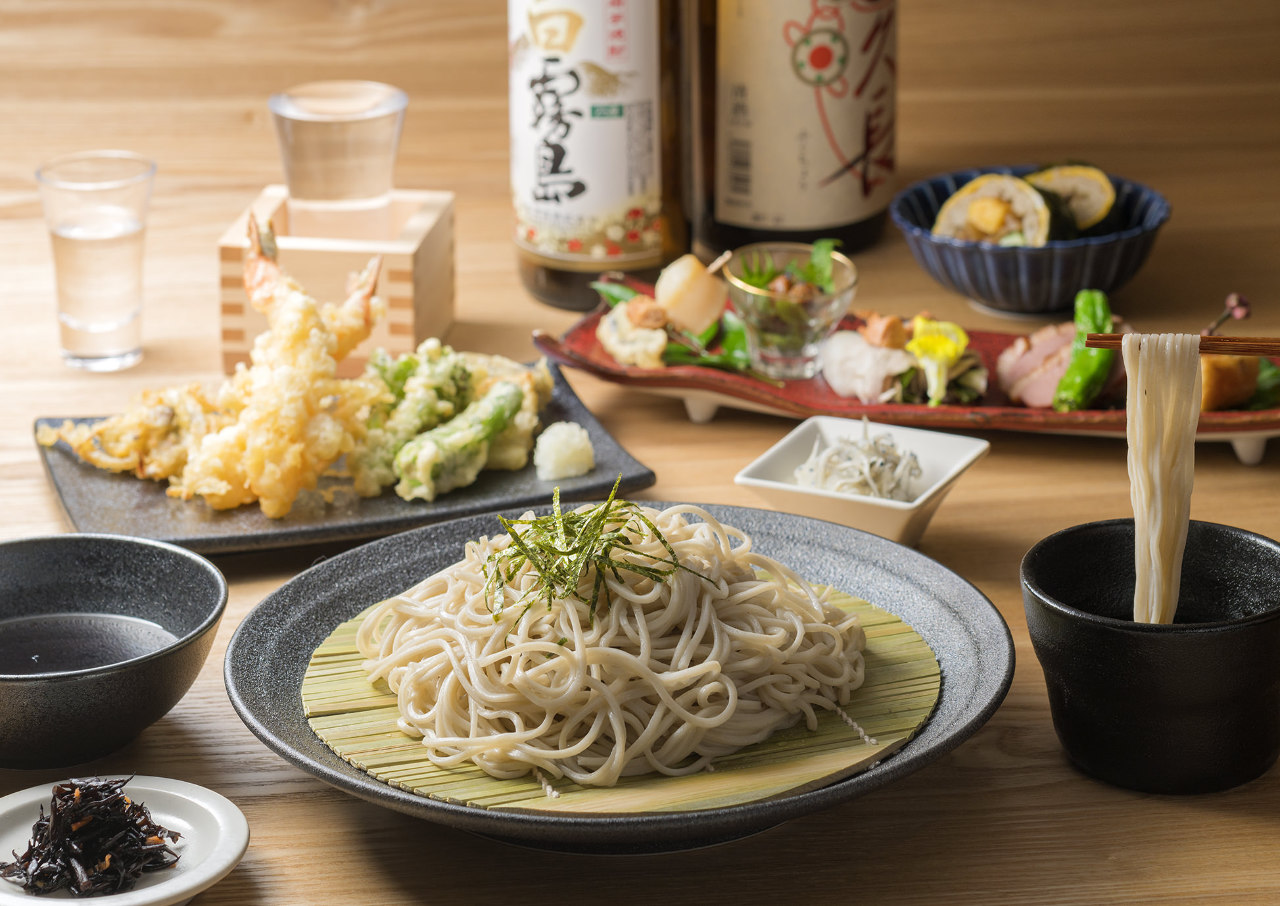Soba: (373, 503, 895, 777), (1112, 333, 1218, 640)
